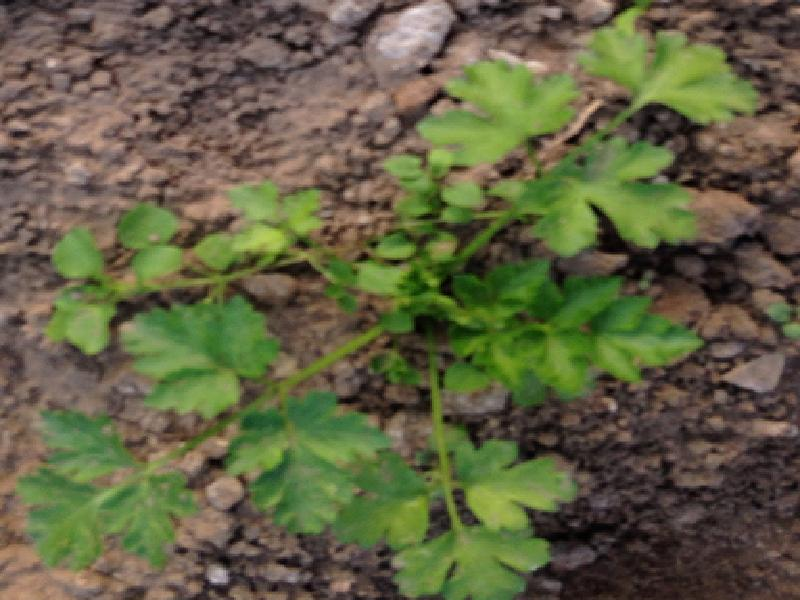radish: (22, 33, 800, 569)
